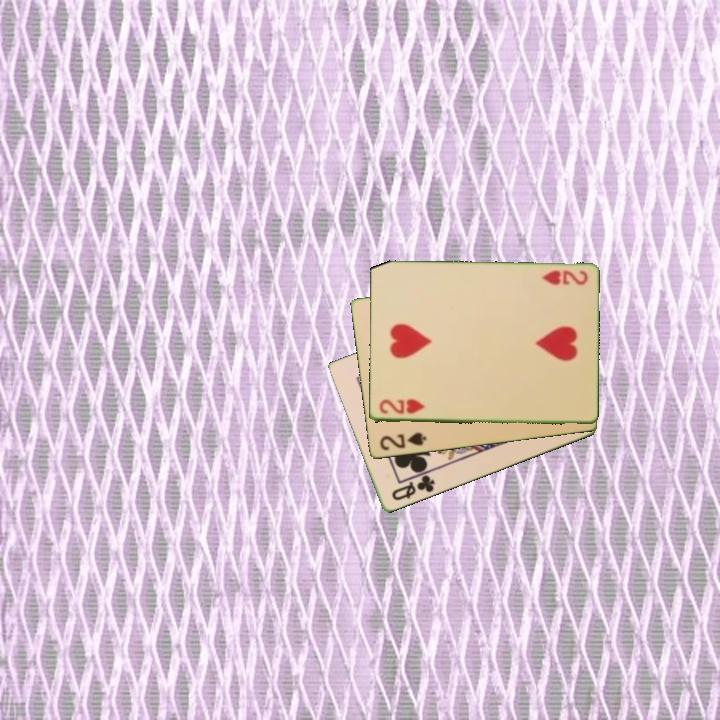2h: (376, 396, 428, 417), (538, 267, 590, 288)
2s: (376, 429, 429, 454)
Qc: (388, 472, 438, 504)
